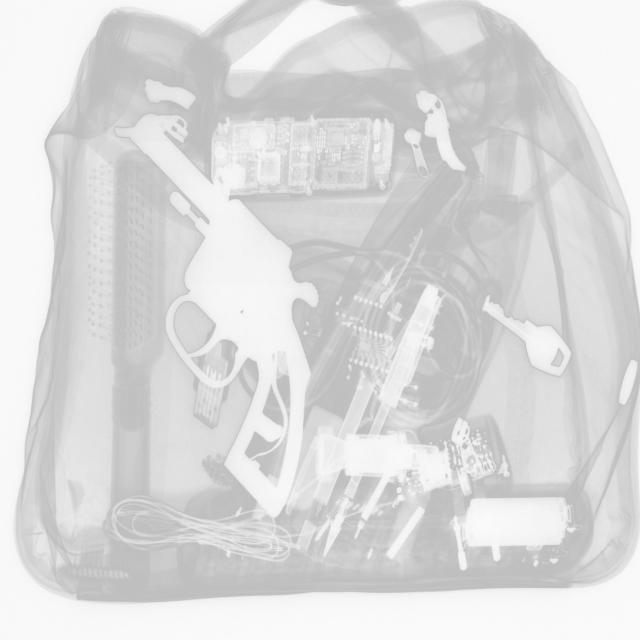pistol: (133, 116, 320, 516)
